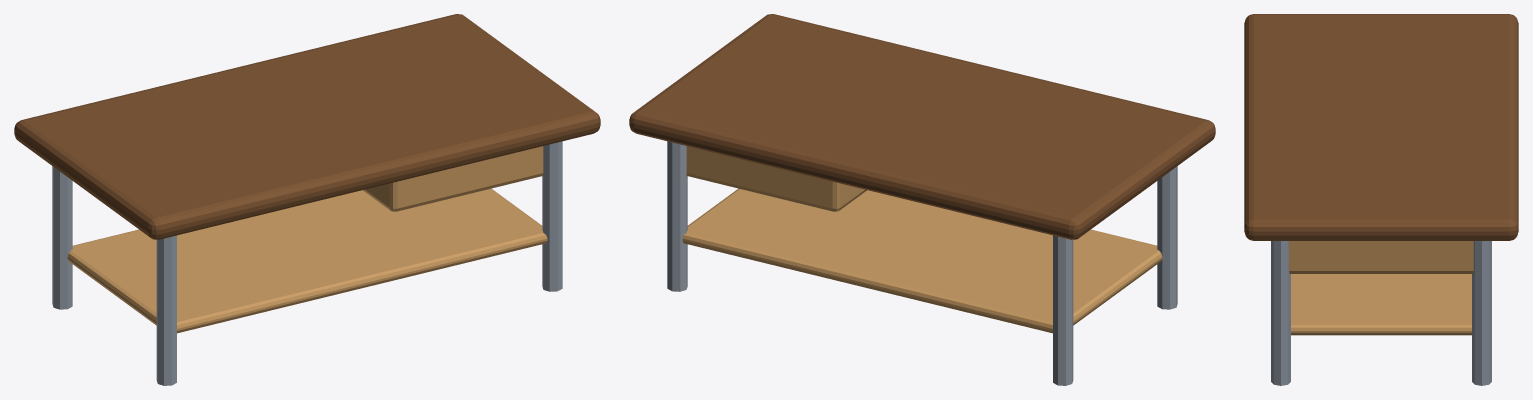
The model's file is coffee-table.glb.
3 renders of one model, left to right at view 1: azimuth 30°, elevation 25°; view 2: azimuth 150°, elevation 25°; view 3: azimuth 270°, elevation 25°, orthographic. The views are drawn at different scales.
Parts seen in each view (by area): view 1: top; view 2: top; view 3: top.
Boxes of the visible parts, x1,y1,x2,y2 form: top: (14, 14, 600, 385); top: (629, 14, 1215, 385); top: (1244, 14, 1518, 385).
Size of the model in its own units: 1.1 by 0.42 by 0.6.
